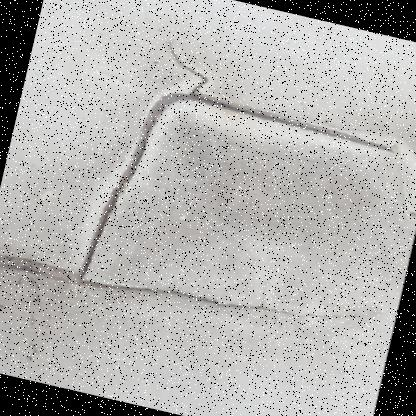Crack: (41, 14, 233, 334), (0, 208, 380, 367), (98, 19, 415, 191), (0, 264, 84, 387), (392, 199, 415, 236)
